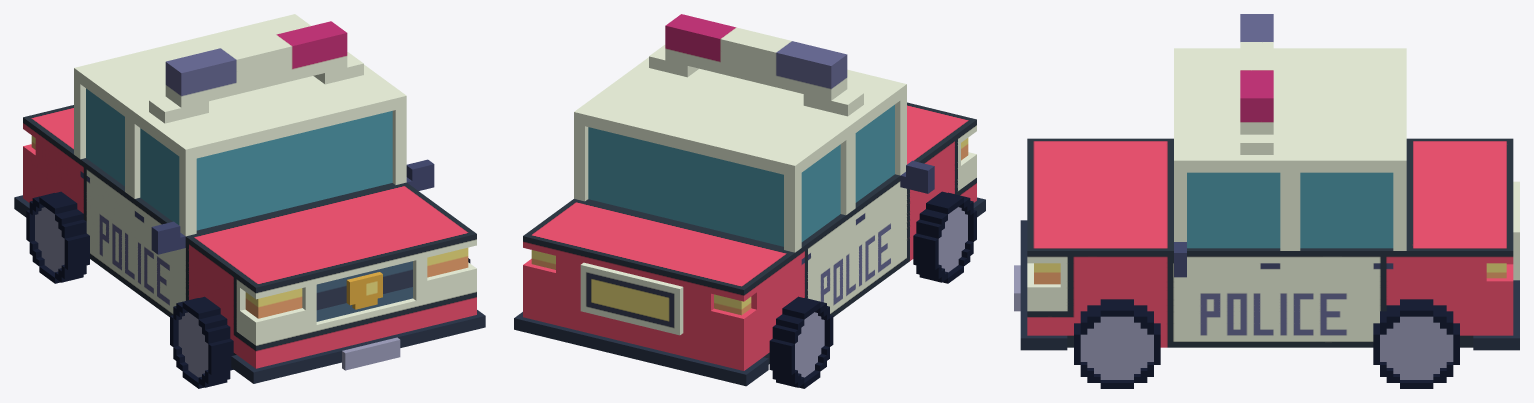
Rendered from PoliceCar.fbx.
3 renders of one model, left to right at view 1: azimuth 30°, elevation 25°; view 2: azimuth 150°, elevation 25°; view 3: azimuth 270°, elevation 25°, orthographic. The views are drawn at different scales.
Parts seen in each view (by area): view 1: Object; view 2: Object; view 3: Object.
Part boxes in pixels (x1,y1,x2,y2): Object: (14,14,485,388); Object: (514,14,985,388); Object: (1014,14,1519,388).
Bounding box in the file's own units: 50 × 44 × 76.
